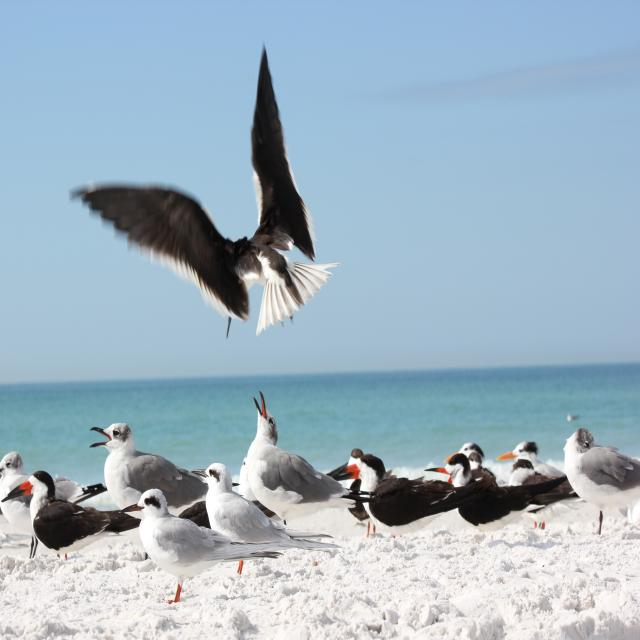bird: (77, 51, 347, 342), (338, 447, 488, 536), (244, 385, 326, 532), (85, 419, 193, 515), (130, 491, 226, 597), (563, 428, 640, 538), (196, 466, 292, 546), (498, 437, 574, 528), (26, 477, 107, 557), (424, 447, 494, 511), (0, 470, 45, 566)
